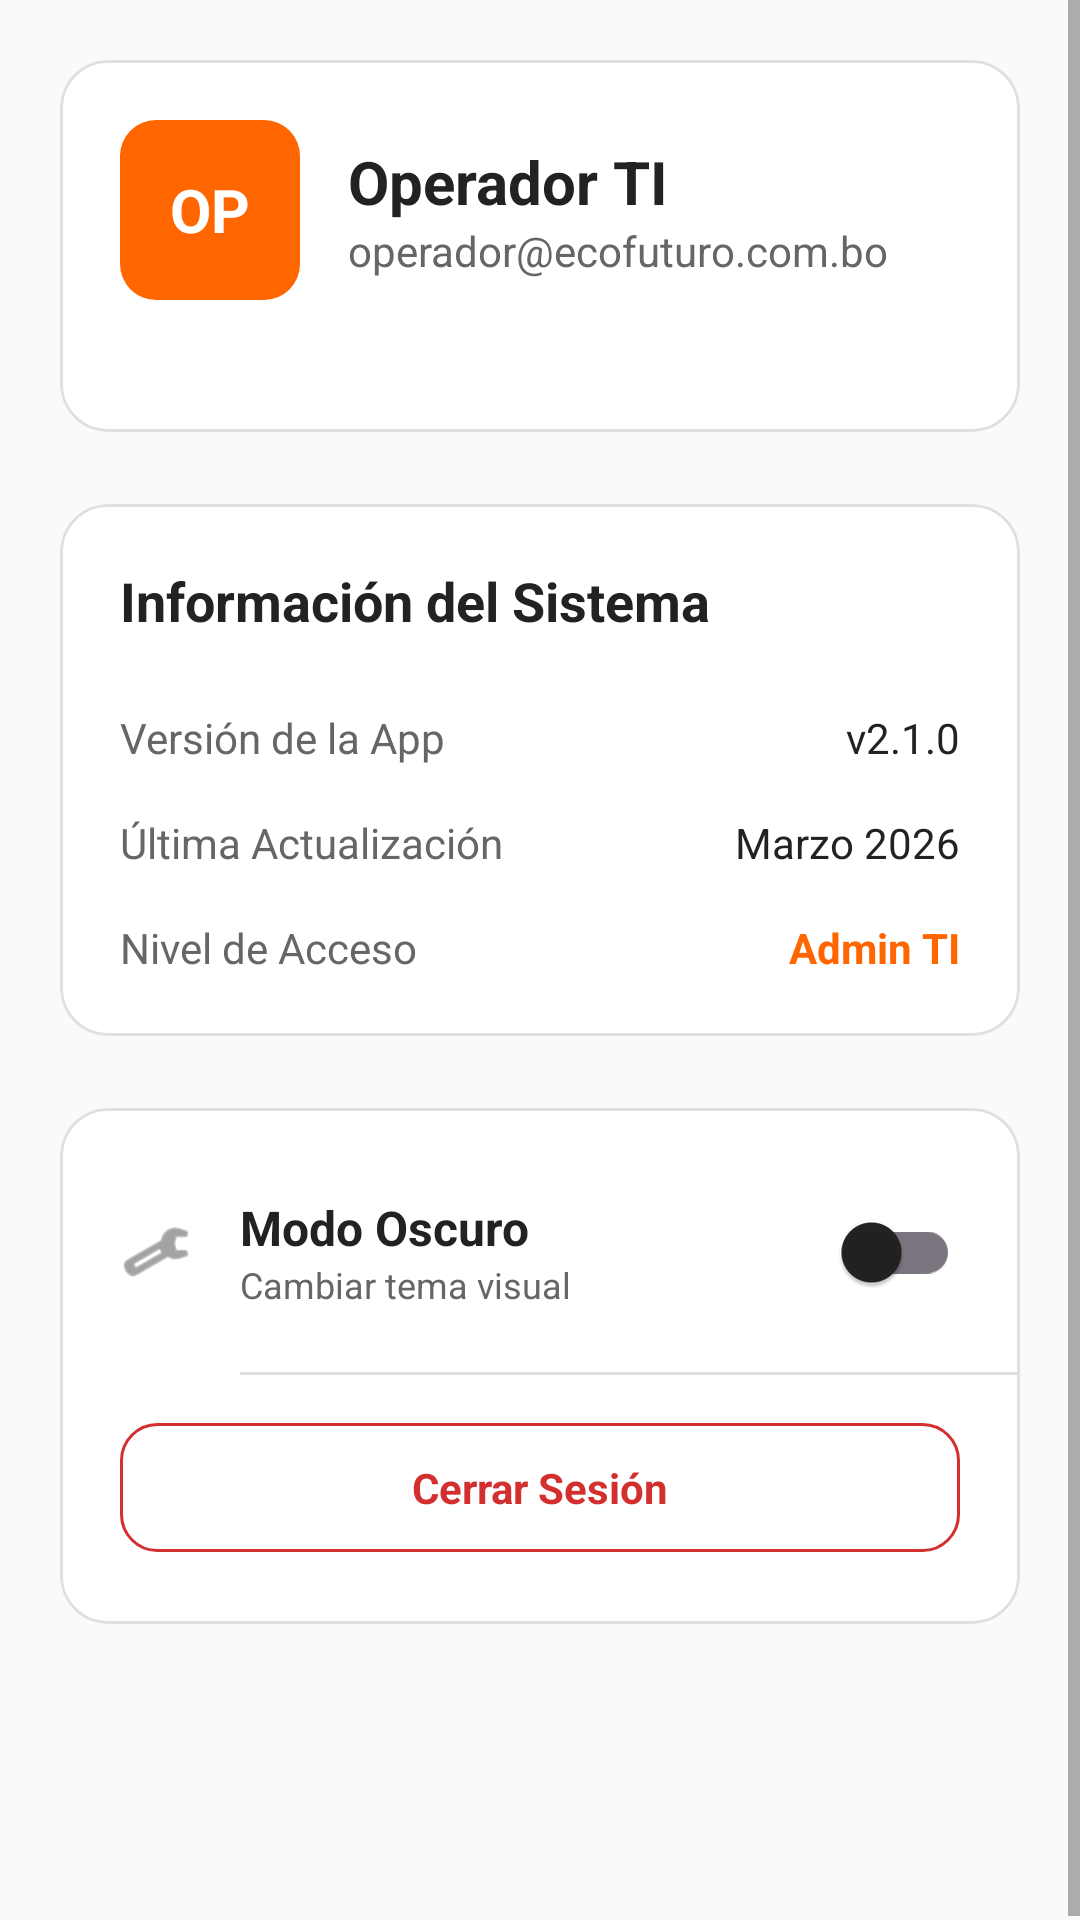

Named icons in this screenshot (1080w x 1920h) and their bounding boxes, (x1, y1, x2, y2):
preferences: (124, 1227, 188, 1277)
